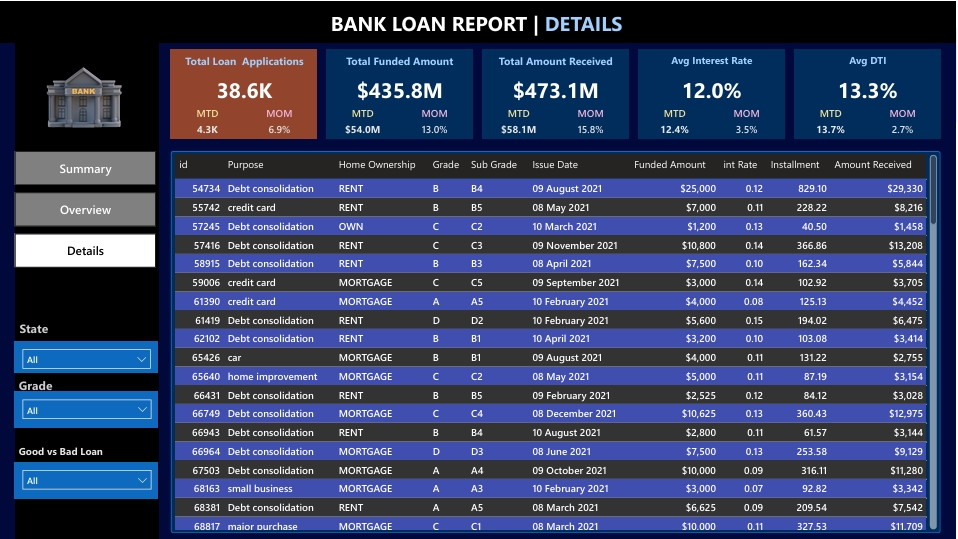

Layout of this report page (visuals, bound fields, positions):
{"tool":"powerbi","page":{"name":"Details","canvas":[1280,720],"ordinal":2},"visuals":[{"type":"shape","box":[25.4,55.7,190.9,664.9],"z":0},{"type":"shape","box":[0,0,1280.4,55.7],"z":1000},{"type":"shape","box":[231.6,63.6,195.6,119.3],"z":1000,"group":"g1"},{"type":"shape","box":[439.3,63.6,195.6,119.3],"z":1000,"group":"g2"},{"type":"shape","box":[647.1,63.6,195.6,119.3],"z":1000,"group":"g3"},{"type":"shape","box":[854.8,63.6,195.6,119.3],"z":1000,"group":"g4"},{"type":"shape","box":[1062.5,63.6,195.6,119.3],"z":1000,"group":"g5"},{"type":"textbox","box":[413.6,4.8,451.7,47.7],"z":2000},{"type":"group","id":"g1","title":"Group 1","box":[231.6,63.6,195.6,119.3],"z":3000},{"type":"group","id":"g2","title":"Group 1","box":[439.3,63.6,195.6,119.3],"z":4000},{"type":"card","fields":{"Values":["bank_loan_data.Total Loan Applications"]},"box":[231.6,98.6,195.6,36.6],"z":4000,"group":"g1"},{"type":"card","fields":{"Values":["bank_loan_data.Total Funded Amount"]},"box":[439.3,98.6,195.6,36.6],"z":4000,"group":"g2"},{"type":"card","fields":{"Values":["bank_loan_data.Total Amount Received"]},"box":[647.1,98.6,195.6,36.6],"z":4000,"group":"g3"},{"type":"card","fields":{"Values":["bank_loan_data.Avg Interest Rate"]},"box":[854.8,98.6,195.6,36.6],"z":4000,"group":"g4"},{"type":"card","fields":{"Values":["bank_loan_data.Avg DTI"]},"box":[1062.5,98.6,195.6,36.6],"z":4000,"group":"g5"},{"type":"textbox","box":[231.6,63.6,195.6,35],"z":5000,"group":"g1"},{"type":"textbox","box":[439.3,63.6,195.6,35],"z":5000,"group":"g2"},{"type":"group","id":"g3","title":"Group 1","box":[647.1,63.6,195.6,119.3],"z":5000},{"type":"textbox","box":[647.1,63.6,195.6,35],"z":5000,"group":"g3"},{"type":"textbox","box":[854.8,63.6,195.6,35],"z":5000,"group":"g4"},{"type":"textbox","box":[1062.5,63.6,195.6,35],"z":5000,"group":"g5"},{"type":"group","id":"g4","title":"Group 1","box":[854.8,63.6,195.6,119.3],"z":6000},{"type":"card","title":"MTD","fields":{"Values":["bank_loan_data.MTD Loan Applications"]},"box":[245.9,139.9,68.4,42.9],"z":6000,"group":"g1"},{"type":"card","title":"MTD","fields":{"Values":["bank_loan_data.MTD Funded Amount"]},"box":[453.6,139.9,68.4,42.9],"z":6000,"group":"g2"},{"type":"card","title":"MTD","fields":{"Values":["bank_loan_data.MTD Total Amount Received"]},"box":[661.4,139.9,68.4,42.9],"z":6000,"group":"g3"},{"type":"card","title":"MTD","fields":{"Values":["bank_loan_data.MTD Avg Int Rate"]},"box":[869.1,139.9,68.4,42.9],"z":6000,"group":"g4"},{"type":"card","title":"MTD","fields":{"Values":["bank_loan_data.MTD Avg DTI"]},"box":[1076.8,139.9,68.4,42.9],"z":6000,"group":"g5"},{"type":"group","id":"g5","title":"Group 1","box":[1062.5,63.6,195.6,119.3],"z":7000},{"type":"card","title":"MOM","fields":{"Values":["bank_loan_data.MOM Loan Application"]},"box":[342.9,139.9,66.8,42.9],"z":7000,"group":"g1"},{"type":"card","title":"MOM","fields":{"Values":["bank_loan_data.MOM Total Funded Application"]},"box":[550.6,139.9,66.8,42.9],"z":7000,"group":"g2"},{"type":"card","title":"MOM","fields":{"Values":["bank_loan_data.MOM Amount Received"]},"box":[758.4,139.9,66.8,42.9],"z":7000,"group":"g3"},{"type":"card","title":"MOM","fields":{"Values":["bank_loan_data.MOM Total Avg Int Rate"]},"box":[966.1,139.9,66.8,42.9],"z":7000,"group":"g4"},{"type":"card","title":"MOM","fields":{"Values":["bank_loan_data.MOM Avg DTI"]},"box":[1173.8,139.9,66.8,42.9],"z":7000,"group":"g5"},{"type":"slicer","fields":{"Values":["bank_loan_data.address_state"]},"box":[23.9,453.3,190.9,41.4],"z":8000},{"type":"textbox","box":[25.4,419.9,70,33.4],"z":9000},{"type":"slicer","fields":{"Values":["bank_loan_data.grade"]},"box":[23.9,520.1,192.5,49.3],"z":10000},{"type":"textbox","box":[23.9,494.7,71.6,36.6],"z":11000},{"type":"slicer","fields":{"Values":["bank_loan_data.Good vs Bad Loan"]},"box":[23.9,614,192.5,49.3],"z":12000},{"type":"textbox","box":[23.9,585.3,140,39.8],"z":13000},{"type":"shape","box":[232.2,198.8,1025.9,509],"z":14000},{"type":"tableEx","fields":{"Values":["bank_loan_data.id","bank_loan_data.purpose","bank_loan_data.home_ownership","bank_loan_data.grade","bank_loan_data.sub_grade","bank_loan_data.issue_date","bank_loan_data.Total Funded Amount","Sum(bank_loan_data.int_rate)","Sum(bank_loan_data.installment)","bank_loan_data.Total Amount Received"]},"box":[232.2,198.8,1025.9,509],"z":15000},{"type":"pageNavigator","box":[23.9,198.8,187.7,155.9],"z":16000},{"type":"image","box":[19.1,63.6,192.5,119.3],"z":17000}]}

Visuals, with their boxes in screenshot pixels (x1, y1, x2, y2), scaled from the page's 1280x720 canvas onto the 958x539 screenshot:
shape: left=19, top=42, right=162, bottom=538
shape: left=0, top=0, right=957, bottom=42
shape: left=173, top=48, right=320, bottom=137
shape: left=329, top=48, right=475, bottom=137
shape: left=484, top=48, right=631, bottom=137
shape: left=640, top=48, right=786, bottom=137
shape: left=795, top=48, right=942, bottom=137
textbox: left=310, top=4, right=648, bottom=39
"Group 1" group: left=173, top=48, right=320, bottom=137
"Group 1" group: left=329, top=48, right=475, bottom=137
card - bank_loan_data.Total Loan Applications: left=173, top=74, right=320, bottom=101
card - bank_loan_data.Total Funded Amount: left=329, top=74, right=475, bottom=101
card - bank_loan_data.Total Amount Received: left=484, top=74, right=631, bottom=101
card - bank_loan_data.Avg Interest Rate: left=640, top=74, right=786, bottom=101
card - bank_loan_data.Avg DTI: left=795, top=74, right=942, bottom=101
textbox: left=173, top=48, right=320, bottom=74
textbox: left=329, top=48, right=475, bottom=74
"Group 1" group: left=484, top=48, right=631, bottom=137
textbox: left=484, top=48, right=631, bottom=74
textbox: left=640, top=48, right=786, bottom=74
textbox: left=795, top=48, right=942, bottom=74
"Group 1" group: left=640, top=48, right=786, bottom=137
"MTD" card: left=184, top=105, right=235, bottom=137
"MTD" card: left=339, top=105, right=391, bottom=137
"MTD" card: left=495, top=105, right=546, bottom=137
"MTD" card: left=650, top=105, right=702, bottom=137
"MTD" card: left=806, top=105, right=857, bottom=137
"Group 1" group: left=795, top=48, right=942, bottom=137
"MOM" card: left=257, top=105, right=307, bottom=137
"MOM" card: left=412, top=105, right=462, bottom=137
"MOM" card: left=568, top=105, right=618, bottom=137
"MOM" card: left=723, top=105, right=773, bottom=137
"MOM" card: left=879, top=105, right=929, bottom=137
slicer - bank_loan_data.address_state: left=18, top=339, right=161, bottom=370
textbox: left=19, top=314, right=71, bottom=339
slicer - bank_loan_data.grade: left=18, top=389, right=162, bottom=426
textbox: left=18, top=370, right=71, bottom=398
slicer - bank_loan_data.Good vs Bad Loan: left=18, top=460, right=162, bottom=497
textbox: left=18, top=438, right=123, bottom=468
shape: left=174, top=149, right=942, bottom=530
tableEx - bank_loan_data.id x bank_loan_data.purpose: left=174, top=149, right=942, bottom=530
pageNavigator: left=18, top=149, right=158, bottom=266
image: left=14, top=48, right=158, bottom=137
